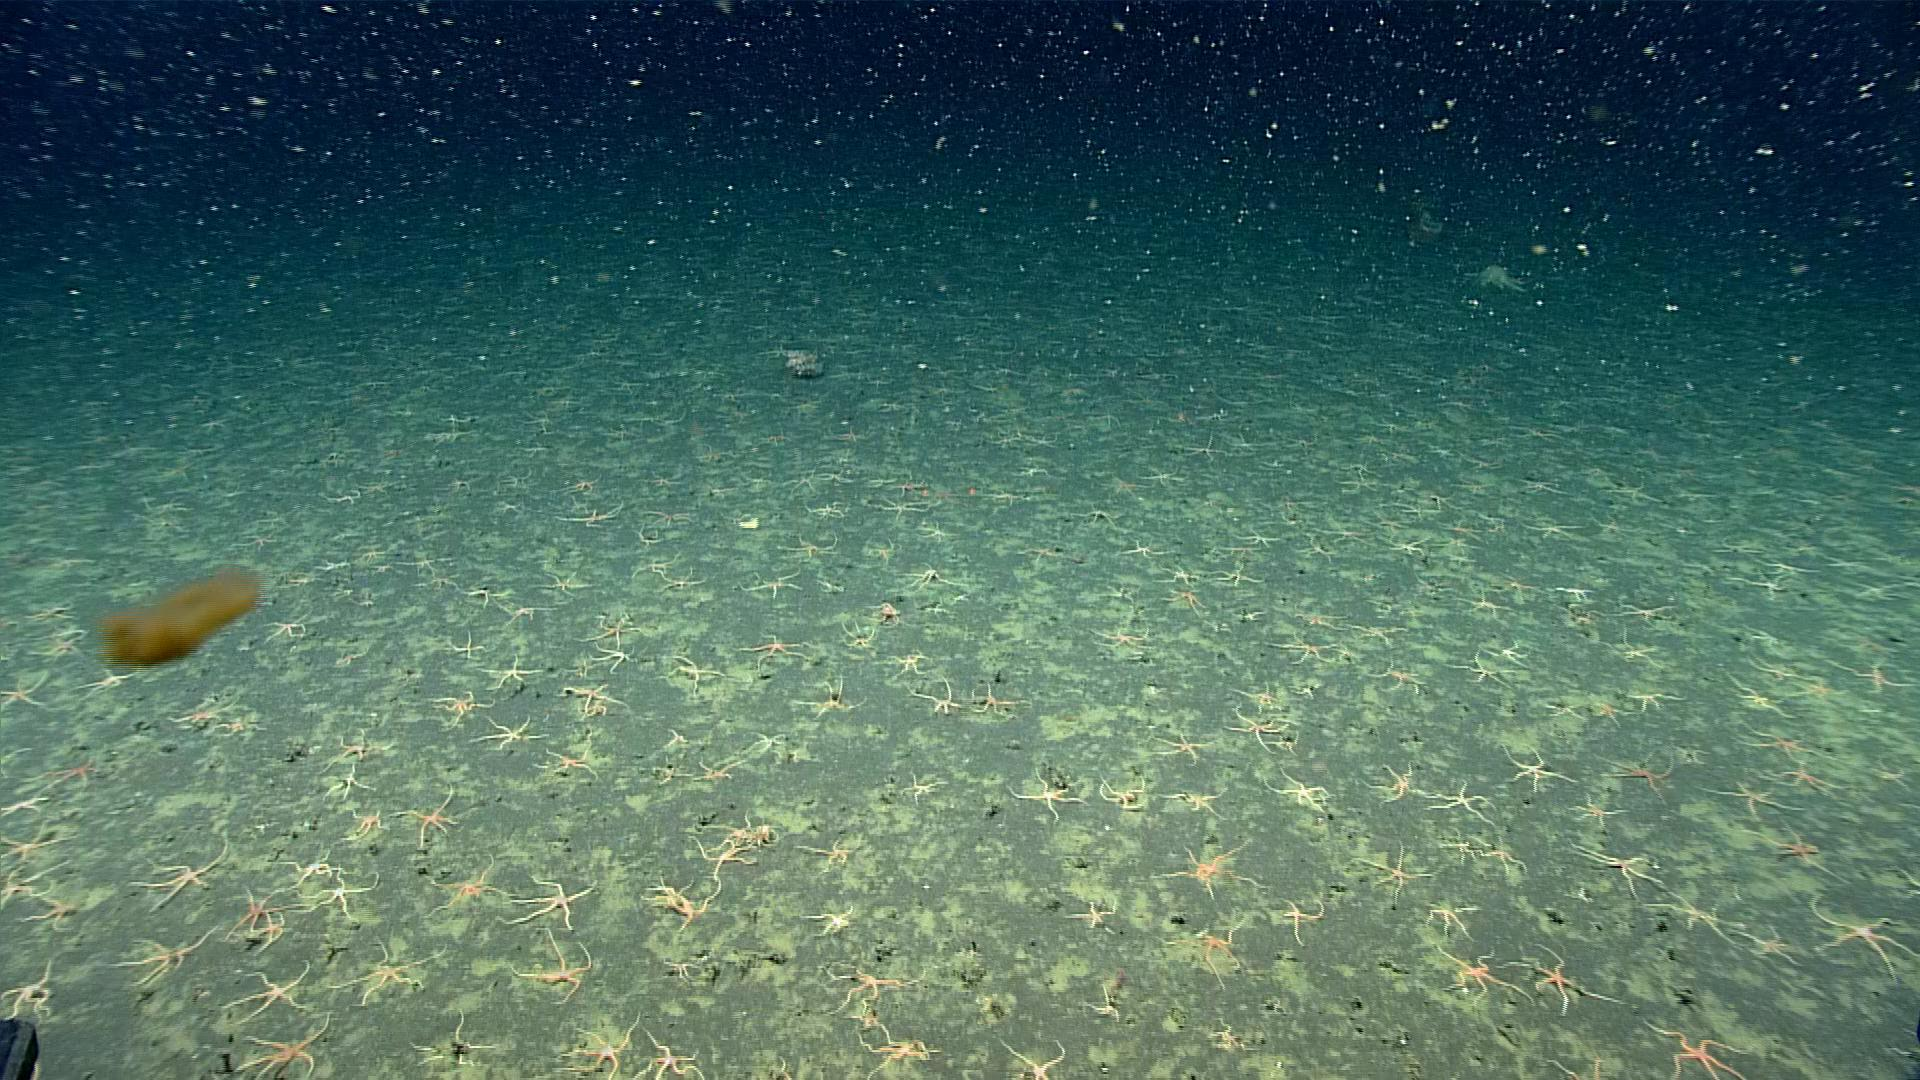brittle_sea_star: (1792, 895, 1919, 976), (1505, 942, 1625, 1014), (327, 938, 446, 1007), (127, 835, 232, 911), (232, 1011, 332, 1079), (109, 927, 216, 988), (510, 931, 595, 1007), (1644, 1019, 1753, 1079), (1151, 845, 1259, 899), (1753, 819, 1845, 882), (219, 960, 313, 1022), (1433, 947, 1532, 1005), (1565, 841, 1664, 899), (1647, 889, 1747, 944), (555, 1014, 640, 1079), (502, 872, 593, 930), (811, 963, 907, 1017), (410, 1009, 497, 1067), (641, 869, 720, 932), (1175, 919, 1247, 988), (427, 853, 502, 918), (1007, 764, 1087, 824), (853, 1021, 942, 1075), (1350, 844, 1431, 903), (389, 782, 458, 847), (1702, 778, 1805, 820), (295, 873, 381, 922), (1493, 745, 1578, 793), (224, 886, 285, 952), (690, 824, 753, 882), (986, 1036, 1073, 1079), (791, 673, 864, 721), (1609, 752, 1675, 804), (1832, 653, 1913, 695), (1, 959, 59, 1018), (633, 1029, 700, 1079), (1262, 765, 1332, 811), (0, 860, 66, 909), (468, 712, 543, 754), (479, 651, 551, 694), (1224, 703, 1284, 752), (1448, 650, 1519, 691), (1358, 764, 1427, 806), (280, 841, 336, 891), (1425, 779, 1491, 822), (1746, 724, 1821, 761), (735, 633, 807, 671), (1737, 927, 1800, 971), (533, 745, 600, 786), (423, 690, 493, 728), (560, 682, 625, 723), (1420, 901, 1484, 942), (0, 827, 73, 862), (1267, 633, 1337, 667), (803, 901, 858, 942), (1776, 760, 1838, 795), (736, 725, 798, 761), (795, 832, 851, 872), (1155, 728, 1212, 766), (909, 676, 961, 717), (657, 654, 715, 691), (318, 762, 373, 800), (16, 897, 75, 932), (1162, 783, 1225, 816), (968, 683, 1026, 719), (719, 812, 778, 847), (1280, 899, 1325, 944), (1559, 795, 1621, 827), (1549, 1044, 1606, 1079), (1233, 679, 1290, 712), (559, 502, 625, 530), (1485, 840, 1532, 878), (1064, 897, 1117, 931), (167, 698, 220, 732), (323, 728, 377, 761), (0, 670, 51, 704), (579, 613, 637, 644), (49, 757, 99, 791), (1096, 777, 1146, 810), (895, 770, 942, 806), (1611, 634, 1663, 666), (746, 571, 800, 600), (1088, 626, 1147, 653), (778, 535, 840, 560), (1457, 588, 1510, 617), (584, 621, 634, 651), (1441, 832, 1485, 866), (1159, 585, 1211, 613), (348, 804, 386, 841), (1371, 658, 1414, 691), (1088, 982, 1122, 1022), (1626, 688, 1685, 711), (80, 671, 136, 695), (0, 794, 55, 818), (1233, 524, 1280, 551), (1156, 562, 1203, 589), (498, 600, 551, 624), (214, 713, 265, 737), (752, 1051, 795, 1079), (887, 649, 931, 676), (1869, 758, 1907, 789), (1491, 634, 1530, 665), (1120, 535, 1166, 560), (462, 584, 509, 608), (1745, 576, 1791, 600), (836, 624, 876, 651), (1625, 601, 1673, 624), (909, 562, 947, 589), (1589, 699, 1627, 727), (1883, 864, 1919, 893), (264, 616, 305, 641), (692, 761, 737, 783), (624, 556, 670, 578), (1217, 564, 1257, 587), (872, 604, 906, 628), (451, 632, 480, 659), (914, 522, 955, 541), (1385, 538, 1427, 554), (659, 725, 686, 748), (653, 764, 683, 782)
